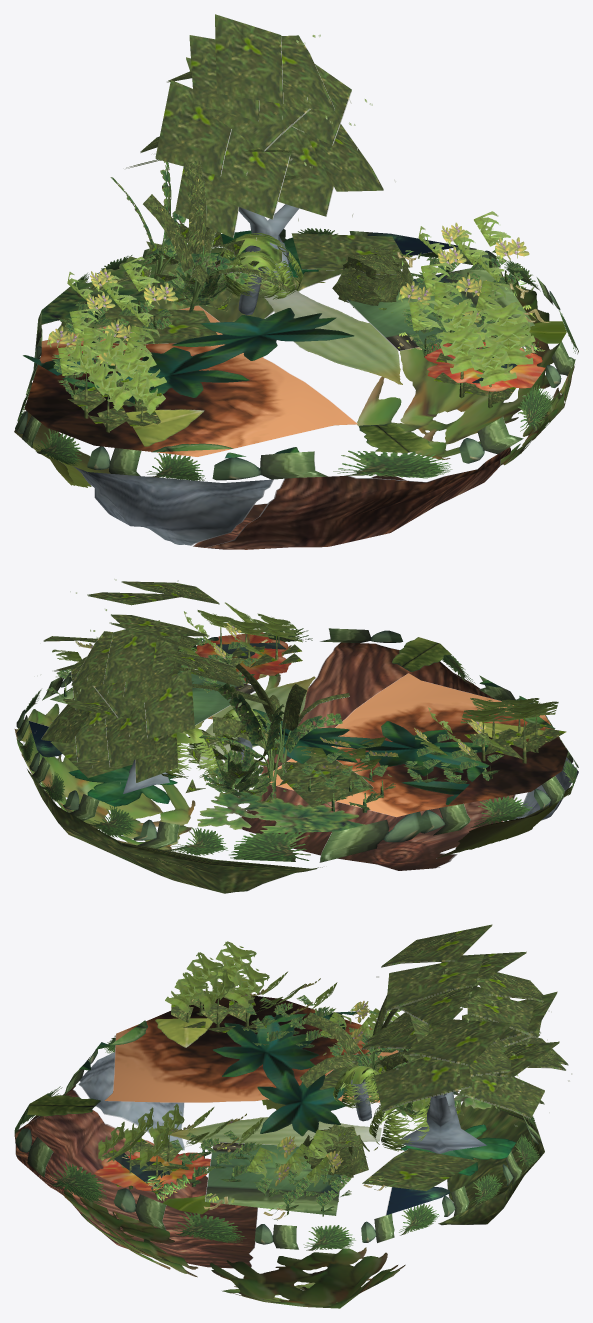
Rendered from Ilha_Flores.FBX.
The picture shows the model from 3 angles, top to bottom: view 1: azimuth 30°, elevation 25°; view 2: azimuth 150°, elevation 25°; view 3: azimuth 270°, elevation 25°; orthographic projection. The views are drawn at different scales.
Visible parts, largest first — view 1: Cenário_Florido; view 2: Cenário_Florido; view 3: Cenário_Florido.
Boxes of the visible parts, x1,y1,x2,y2 form: Cenário_Florido: [14, 14, 578, 549]; Cenário_Florido: [14, 579, 578, 893]; Cenário_Florido: [14, 924, 572, 1308].
Size of the model in its own units: 8.55 by 5.63 by 8.56.
